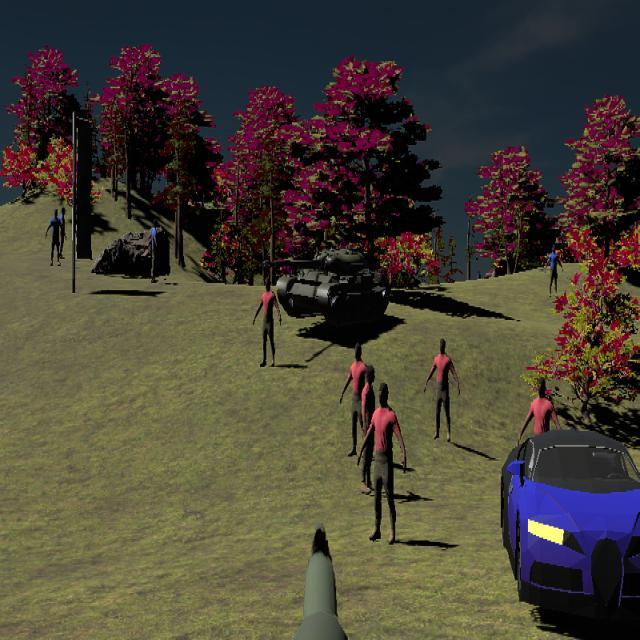Human: (358, 381, 408, 545), (518, 377, 562, 486), (424, 338, 460, 442), (339, 343, 370, 459), (253, 275, 281, 367), (545, 244, 563, 299)
Tank: (264, 245, 390, 327)
car: (499, 429, 640, 620)
